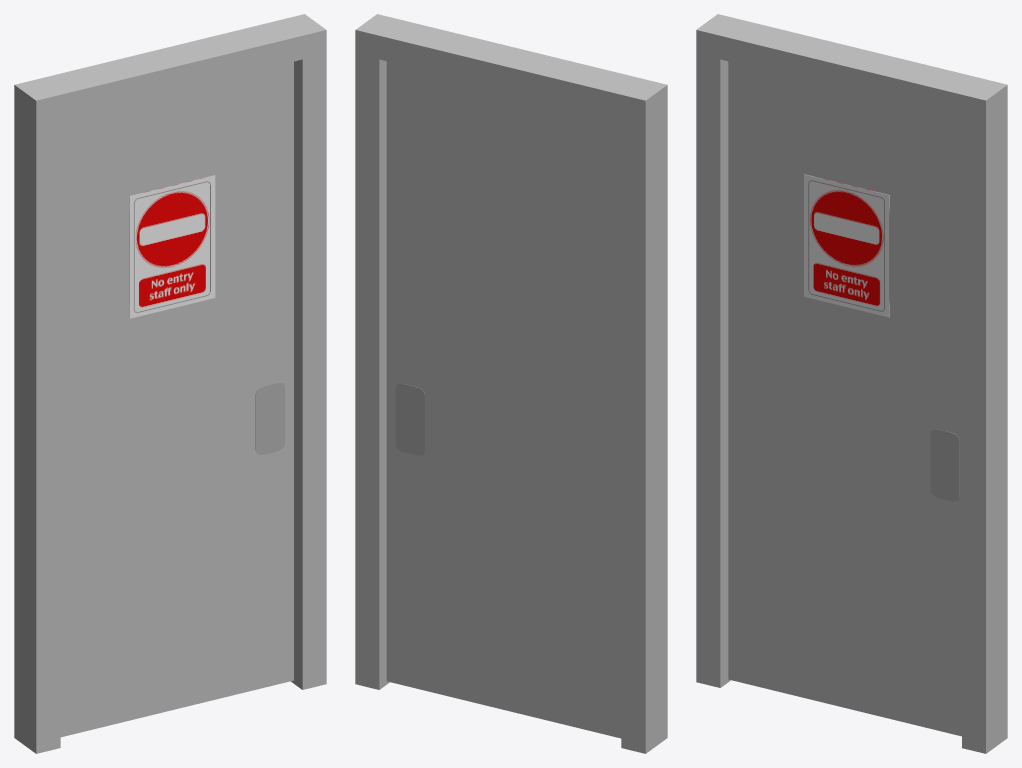
The model's file is Storage room door.fbx.
3 renders of one model, left to right at view 1: azimuth 30°, elevation 25°; view 2: azimuth 150°, elevation 25°; view 3: azimuth 330°, elevation 25°, orthographic.
Parts seen in each view (by area): view 1: Storage room door, door frame; view 2: Storage room door, door frame; view 3: Storage room door, door frame.
Boxes of the visible parts, x1=… form: Storage room door: x1=60, y1=61, x2=293, y2=737; door frame: x1=14, y1=14, x2=326, y2=753; Storage room door: x1=386, y1=61, x2=621, y2=738; door frame: x1=355, y1=14, x2=667, y2=753; Storage room door: x1=728, y1=61, x2=961, y2=736; door frame: x1=696, y1=14, x2=1007, y2=753.
Size of the model in its own units: 984 by 2120 by 128.
